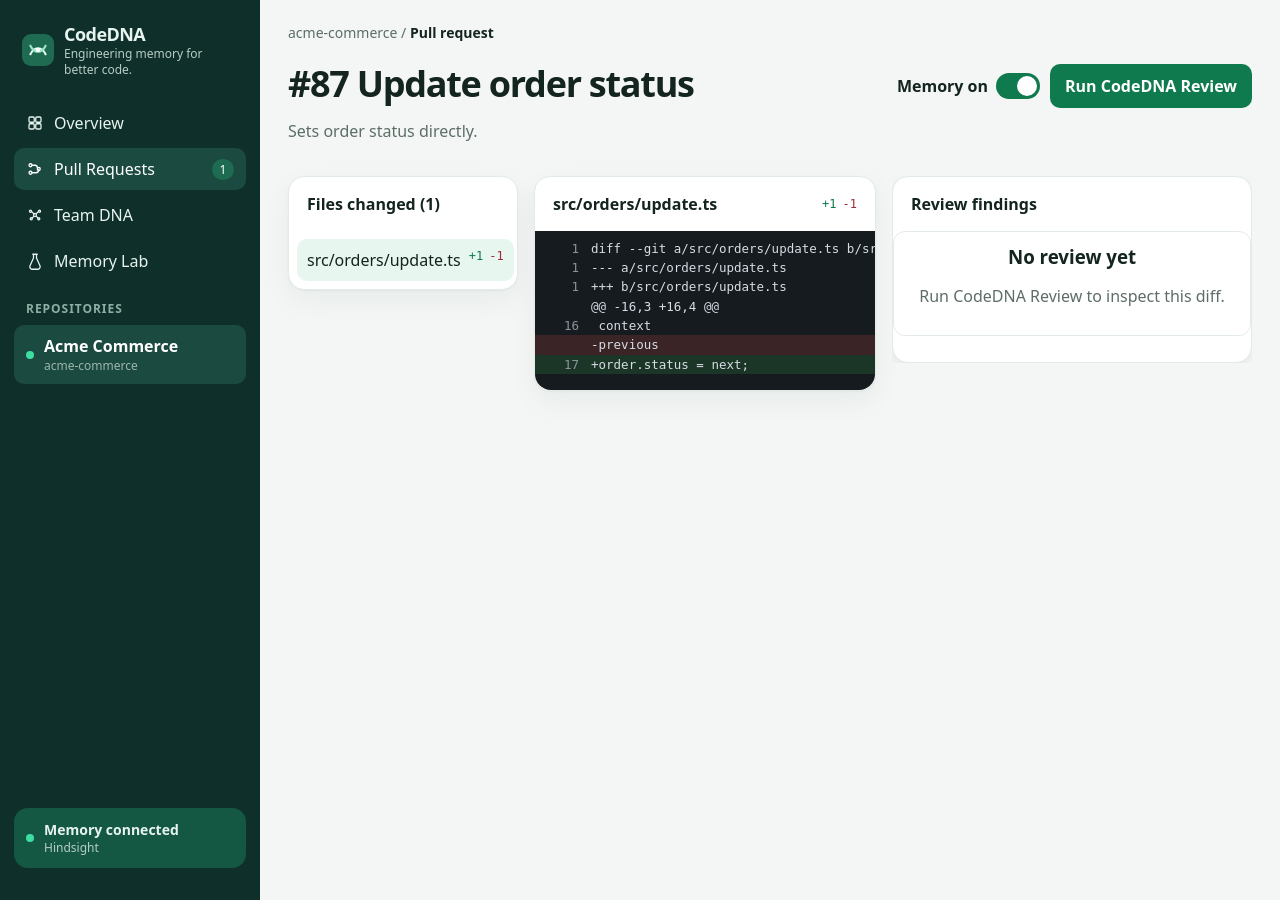
Test: labels a team finding as a design mismatch and a general finding as general
Check: the heading "#87 Update order status" is shown, box [288,64,694,104]
Check: the text "Memory connected" is shown, box [44,820,179,839]
Click the button "Run CodeDNA Review". click: (1151, 86)
box: [1050,64,1252,108]
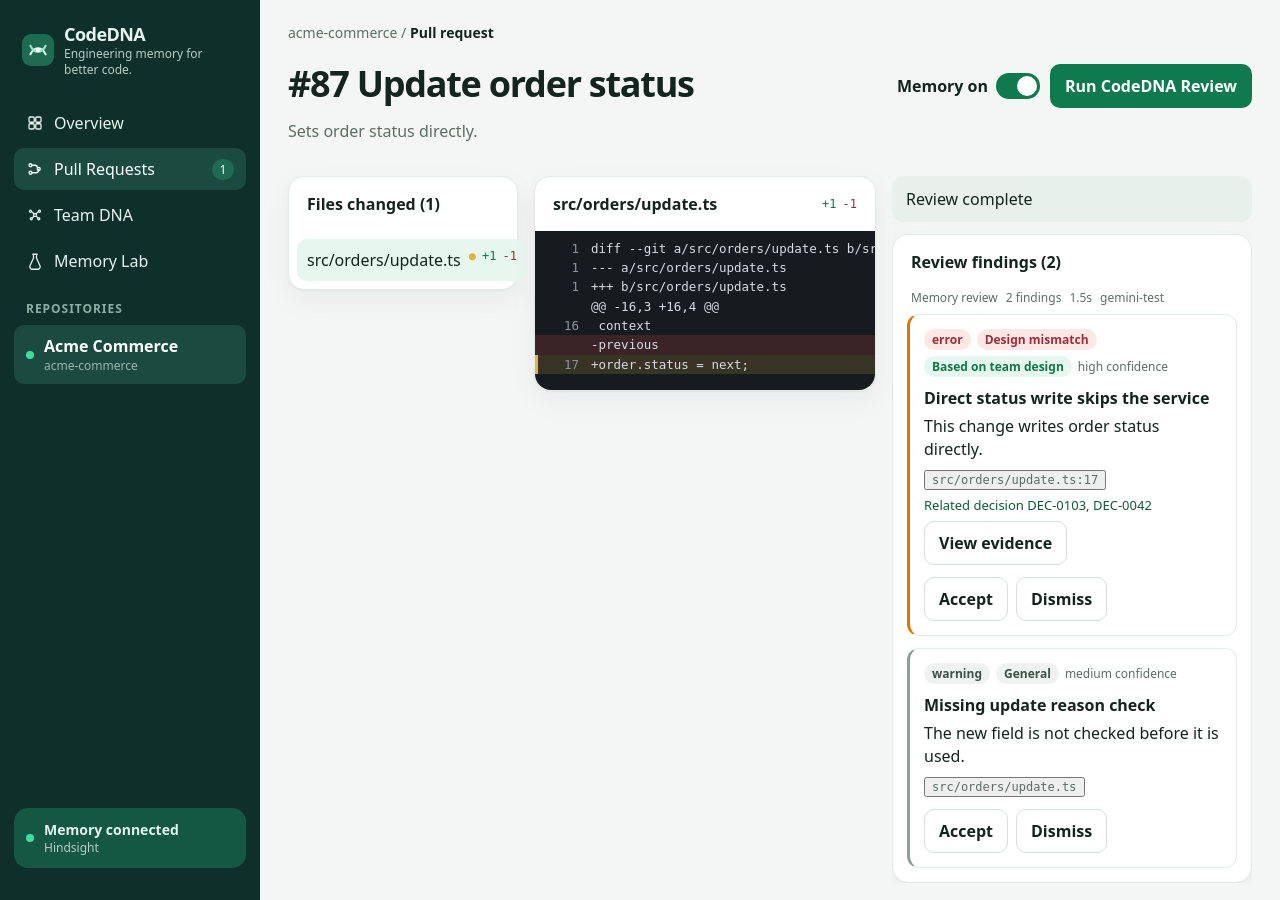
Check: the element named "Direct status write skips the service" shows "Design mismatch", box [985,331,1088,348]
Check: the element named "Direct status write skips the service" shows "Based on team design", box [932,358,1064,375]
Check: the element "Missing update reason check" shows "General", box [1004,665,1051,682]
